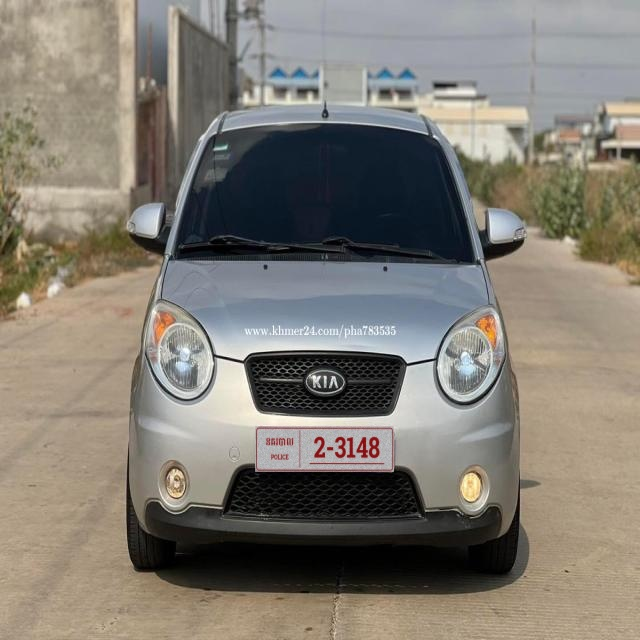Plate Number: (255, 427, 395, 472)
